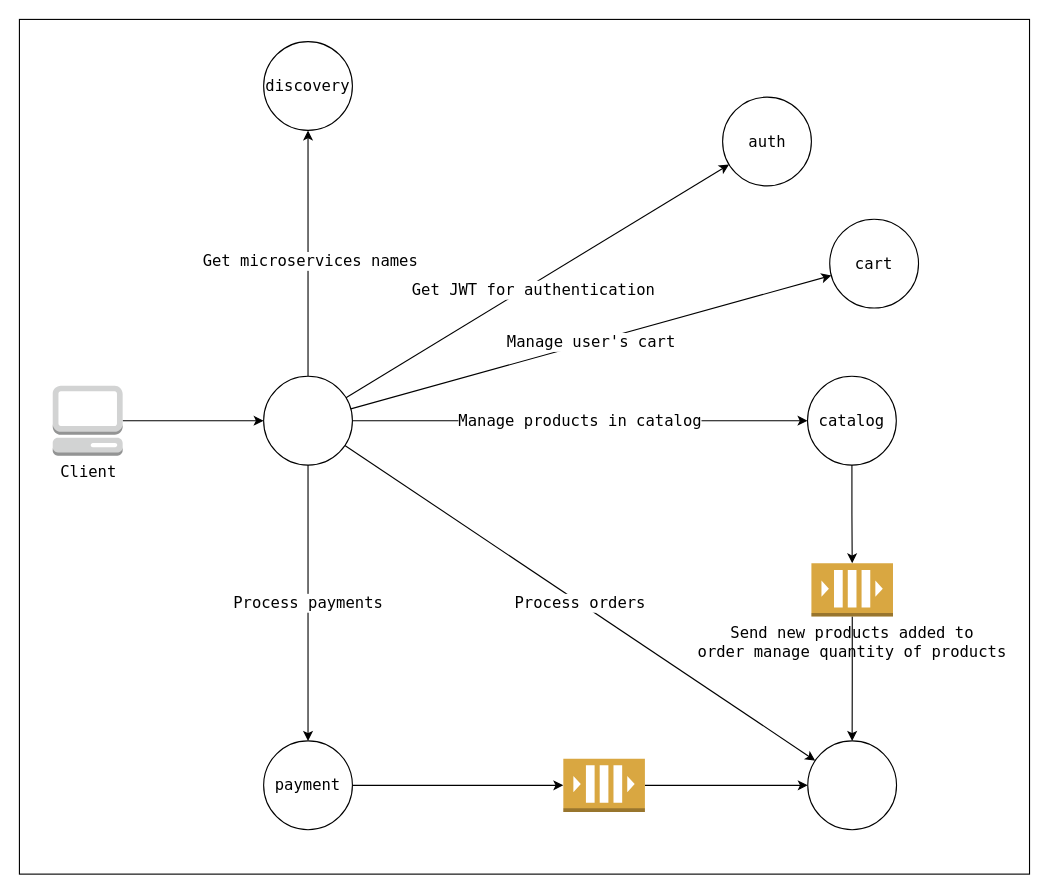
Image size: 1049x894. Some labels were removed from this diagram. The shapes that lost their labels are listed below. From the top down, each one's box as (x1, y1, x2, y2) in pixels, then its label:
(263, 375, 352, 465): gateway
(562, 758, 645, 812): Send the payment to update order status
(807, 740, 897, 830): order
